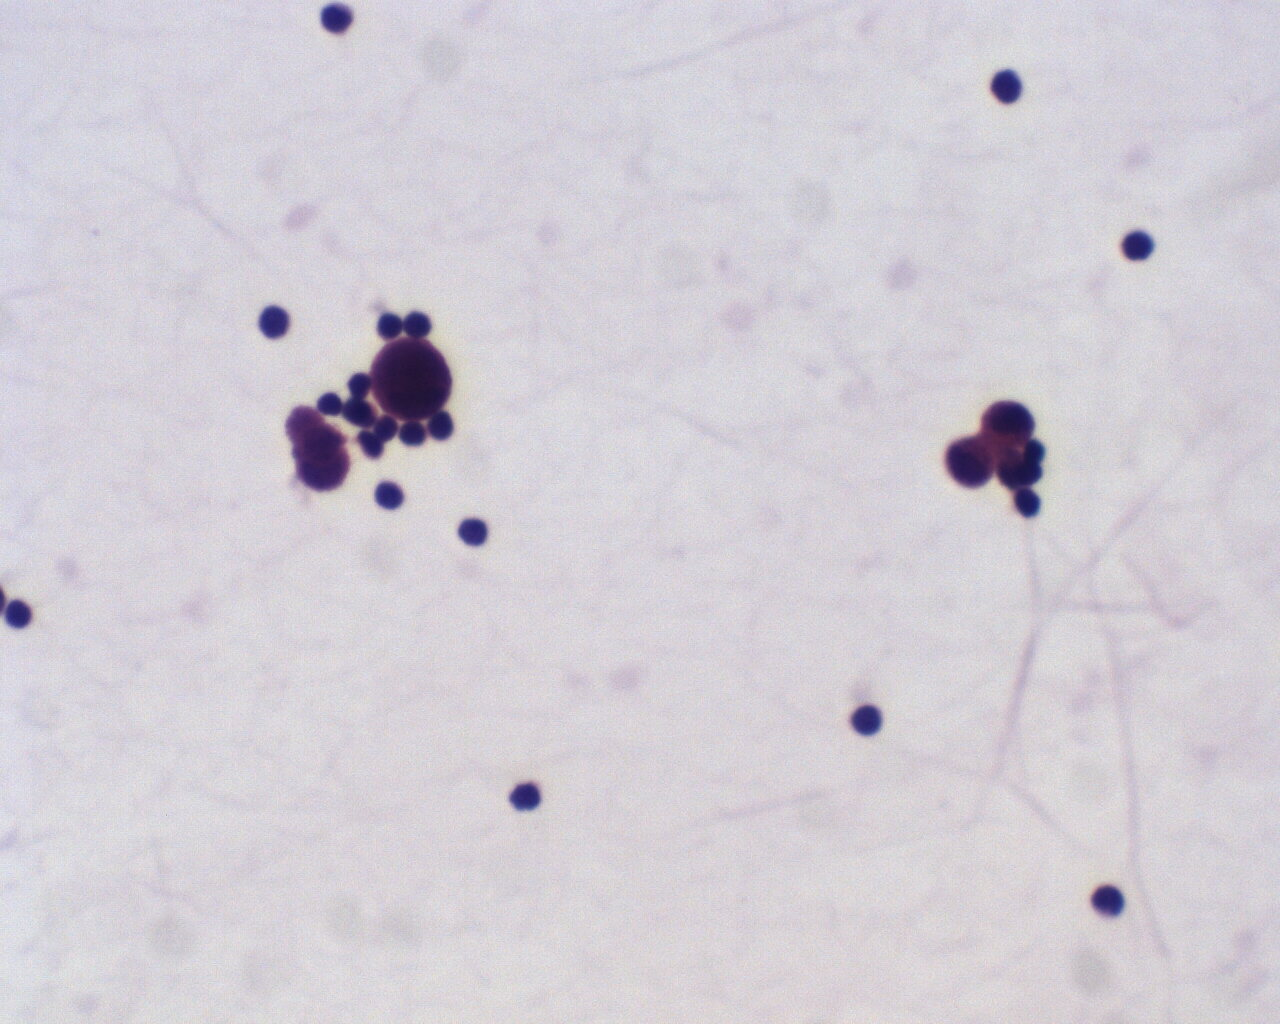ab: (354, 332, 471, 418)
lymph: (1106, 222, 1156, 273), (1083, 880, 1132, 923), (843, 697, 890, 741), (504, 777, 546, 820), (982, 65, 1027, 106), (255, 298, 294, 345), (453, 511, 497, 551), (315, 1, 359, 39), (370, 476, 408, 512), (4, 595, 34, 631)
